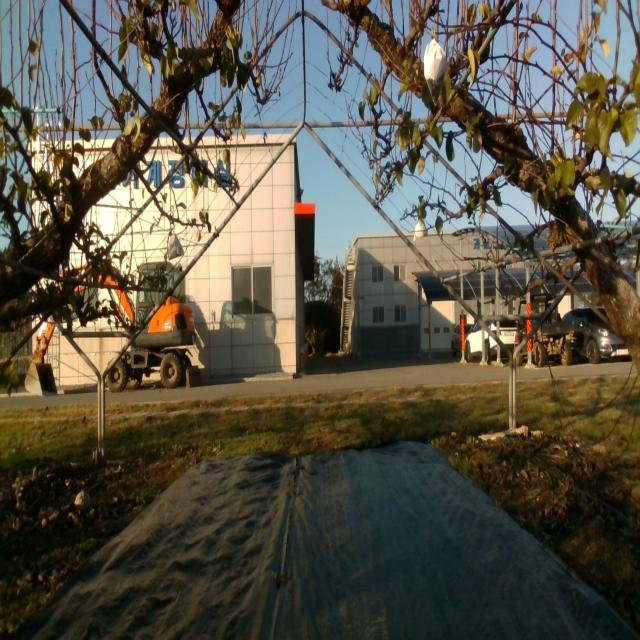pearbags: (421, 37, 449, 104), (167, 233, 184, 260), (412, 220, 426, 242)
